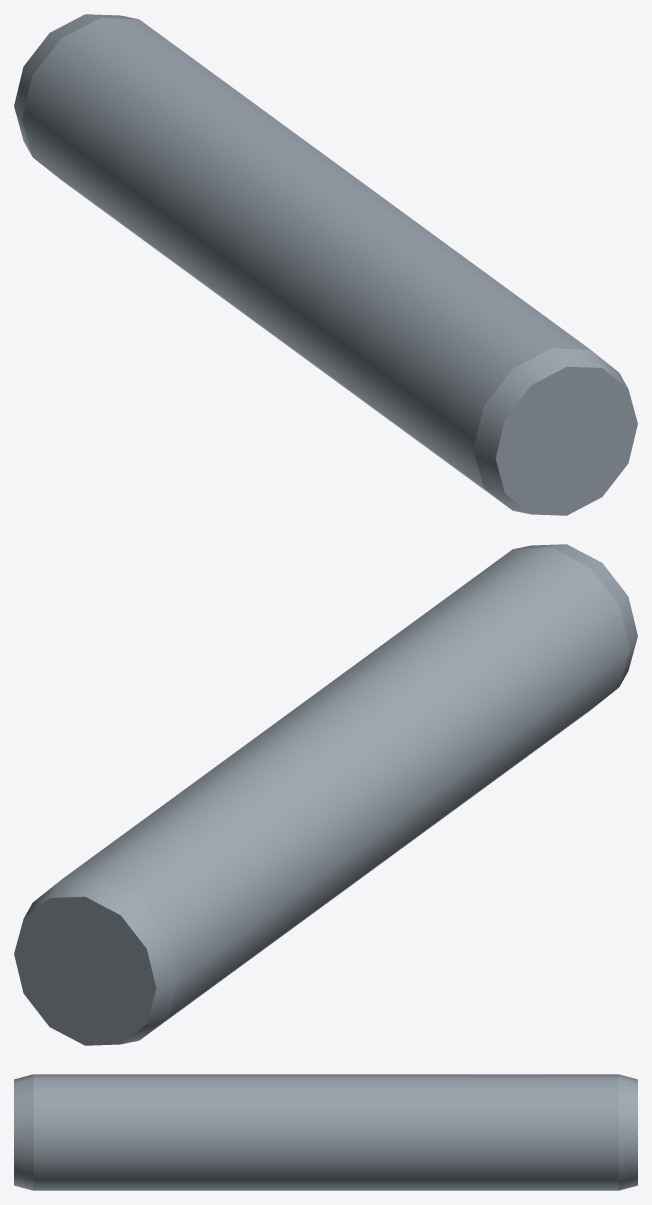
Rendered from Parallel_Pin_3_x_16_2.obj.
3 renders of one model, top to bottom at view 1: azimuth 30°, elevation 25°; view 2: azimuth 150°, elevation 25°; view 3: azimuth 270°, elevation 25°, orthographic. The views are drawn at different scales.
Visible parts, largest first — view 1: Body1; view 2: Body1; view 3: Body1.
Boxes of the visible parts, box(x1,y1,x2,y2) form: Body1: box(14, 14, 637, 515); Body1: box(14, 544, 637, 1045); Body1: box(14, 1074, 637, 1190).
Bounding box in the file's own units: 3 × 3 × 16.
